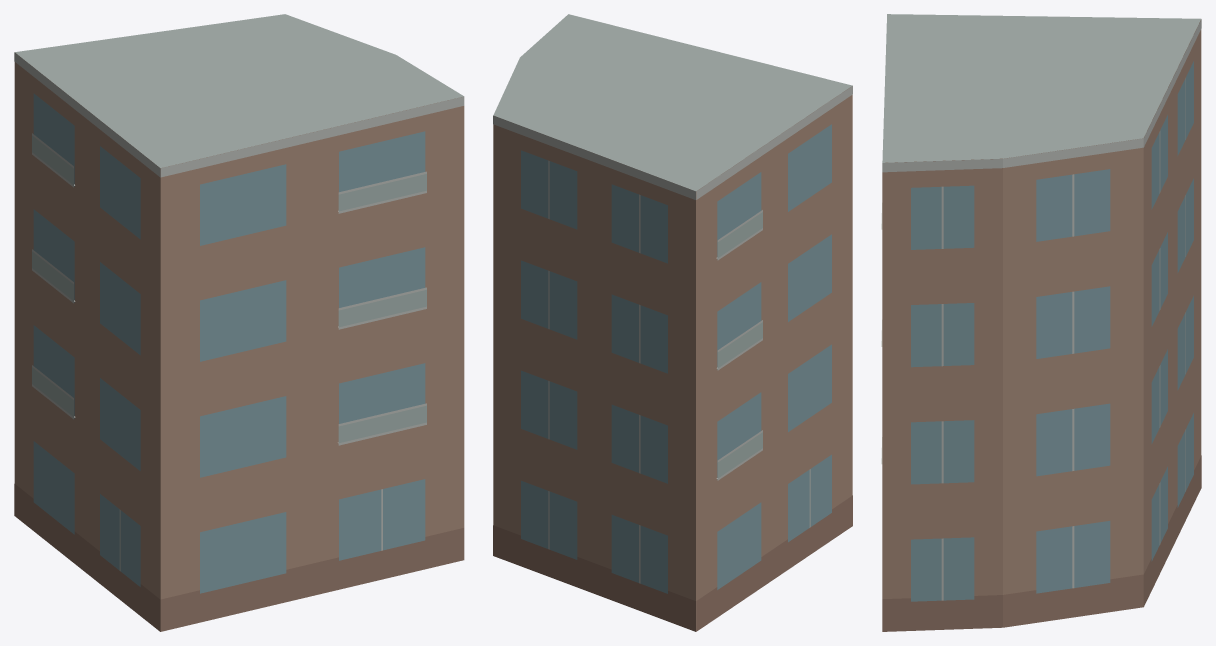
Rendered from survey-upis-32750575.glb.
The picture shows the model from 3 angles, left to right: view 1: azimuth 30°, elevation 25°; view 2: azimuth 150°, elevation 25°; view 3: azimuth 270°, elevation 25°; orthographic projection. The views are drawn at different scales.
Parts seen in each view (by area): view 1: survey-upis-32750575.tmp; view 2: survey-upis-32750575.tmp; view 3: survey-upis-32750575.tmp.
Boxes of the visible parts, x1,y1,x2,y2 form: survey-upis-32750575.tmp: [14, 14, 464, 631]; survey-upis-32750575.tmp: [493, 14, 852, 631]; survey-upis-32750575.tmp: [881, 14, 1201, 631].
Bounding box in the file's own units: 8.25 × 12.1 × 7.49.
